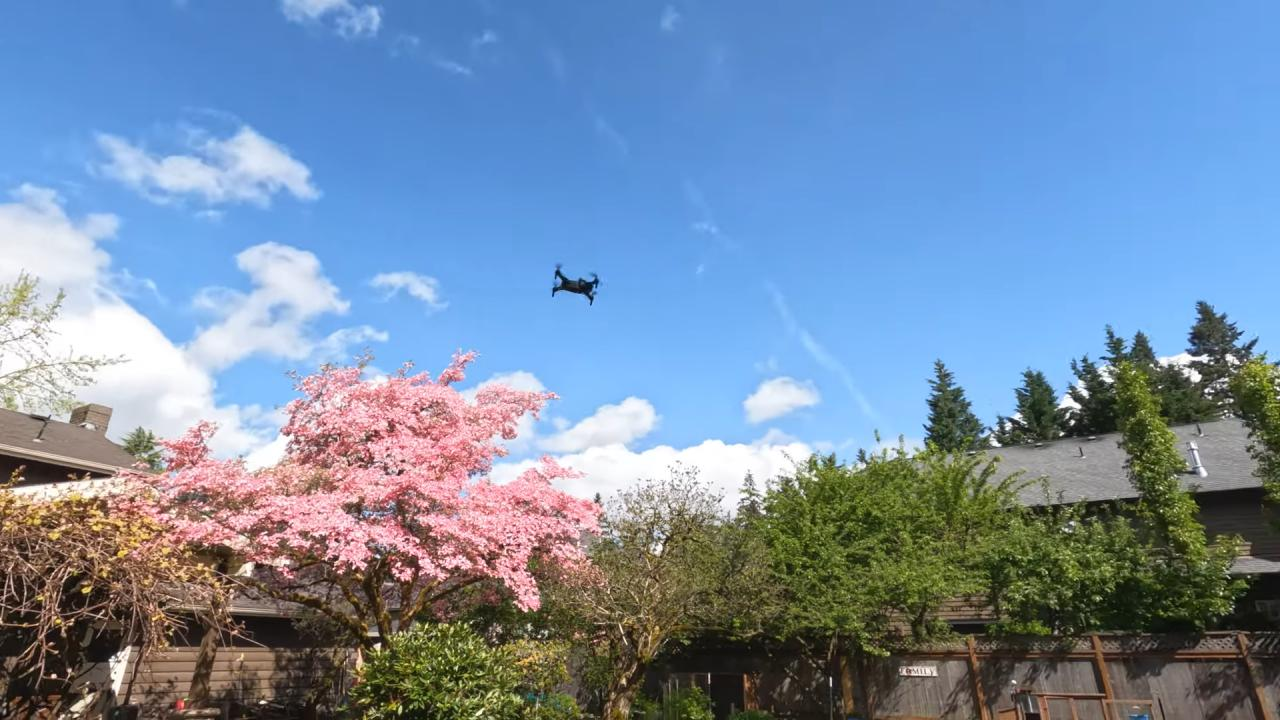Drone: (542, 259, 607, 311)
